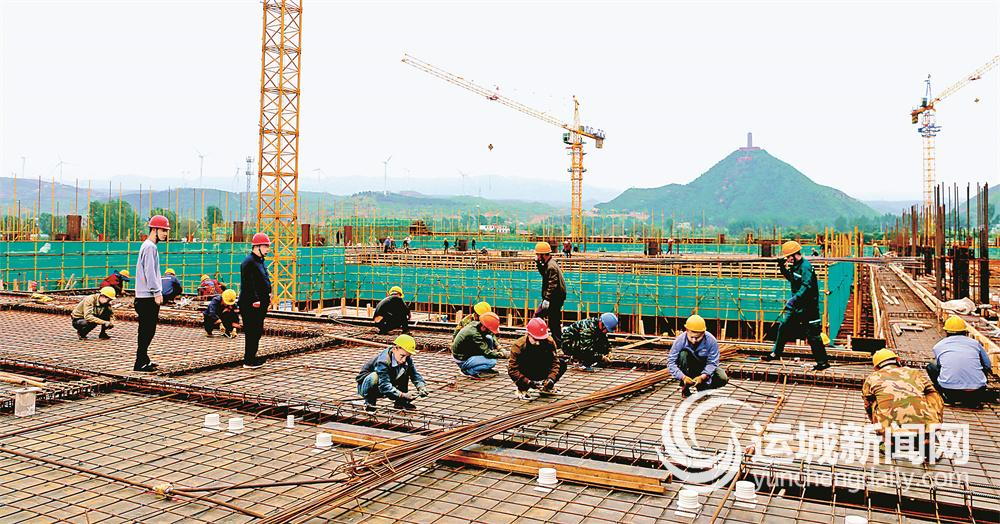safetyhat: (760, 241, 840, 379), (121, 213, 182, 376), (864, 340, 939, 466), (937, 313, 1000, 413), (662, 311, 730, 401), (233, 233, 277, 366), (357, 324, 426, 397), (444, 301, 504, 376), (523, 236, 574, 308), (567, 309, 625, 369), (513, 317, 557, 393)
